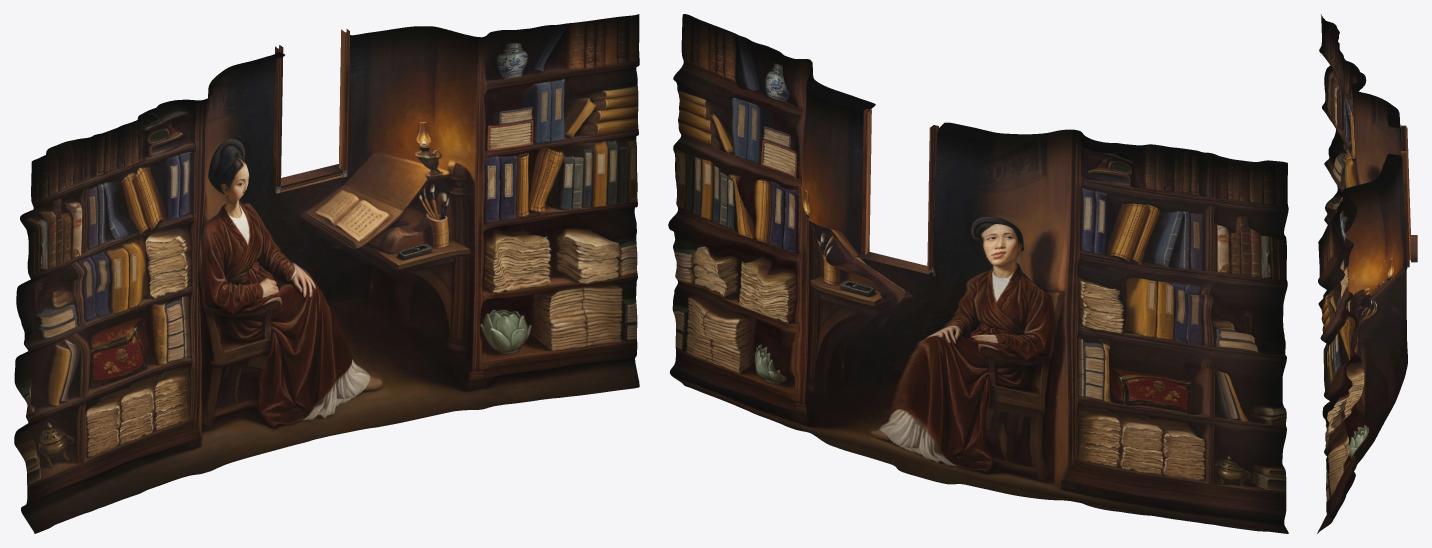
The model's file is Agentic_fg_251209_compressed-optimized.glb.
The picture shows the model from 3 angles, left to right: view 1: azimuth 30°, elevation 25°; view 2: azimuth 150°, elevation 25°; view 3: azimuth 270°, elevation 25°; orthographic projection. The views are drawn at different scales.
Parts seen in each view (by area): view 1: Agentic; view 2: Agentic; view 3: Agentic.
Part boxes in pixels (x1,y1,x2,y2): Agentic: (14, 14, 639, 533); Agentic: (668, 14, 1288, 533); Agentic: (1317, 14, 1417, 533).
Bounding box in the file's own units: 3.45 × 2 × 0.6222.
Materials: 1 (1 with a texture image).
